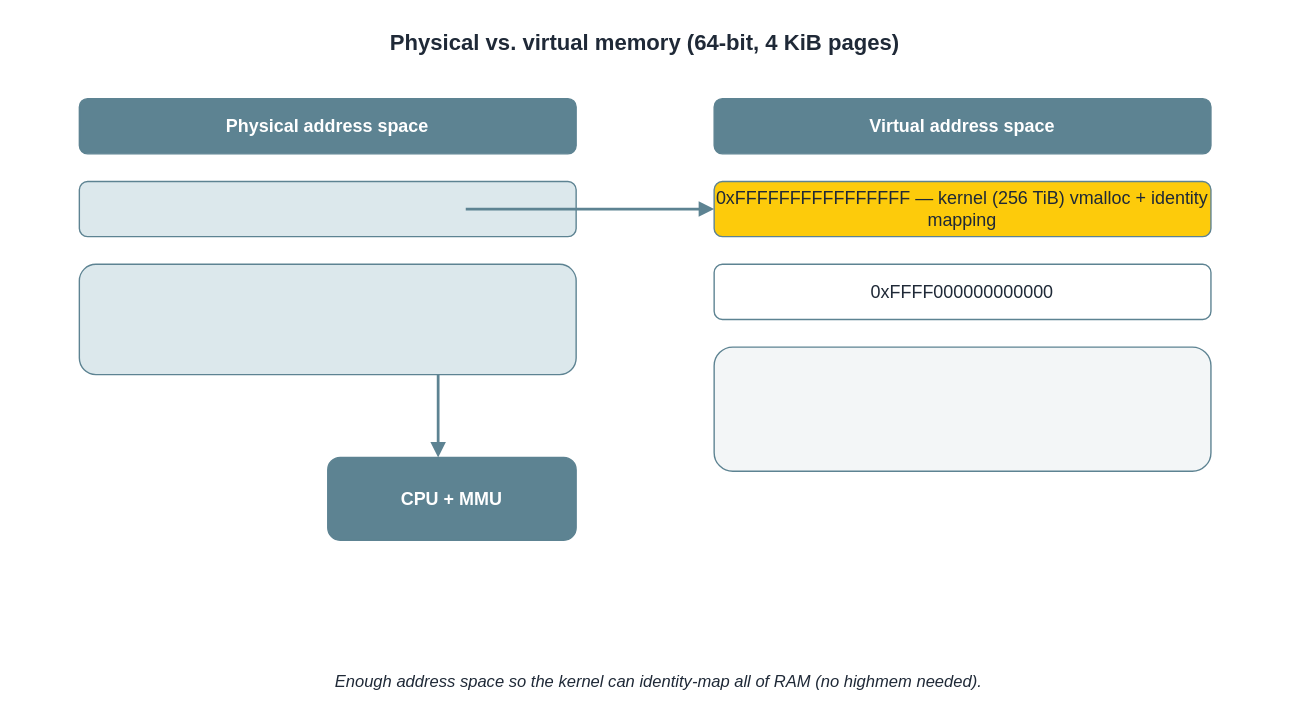
This 1289x723 diagram has some shape labels left out. The shapes that lost their labels are listed below. From the top down, each one's box as (x1, y1, x2, y2) in pixels, then its label:
(78, 180, 576, 237): I/O memory
(78, 263, 576, 375): RAM (16 MiB × TiB space)
(713, 346, 1211, 471): Process n (256 TiB) 0x0000000000000000
